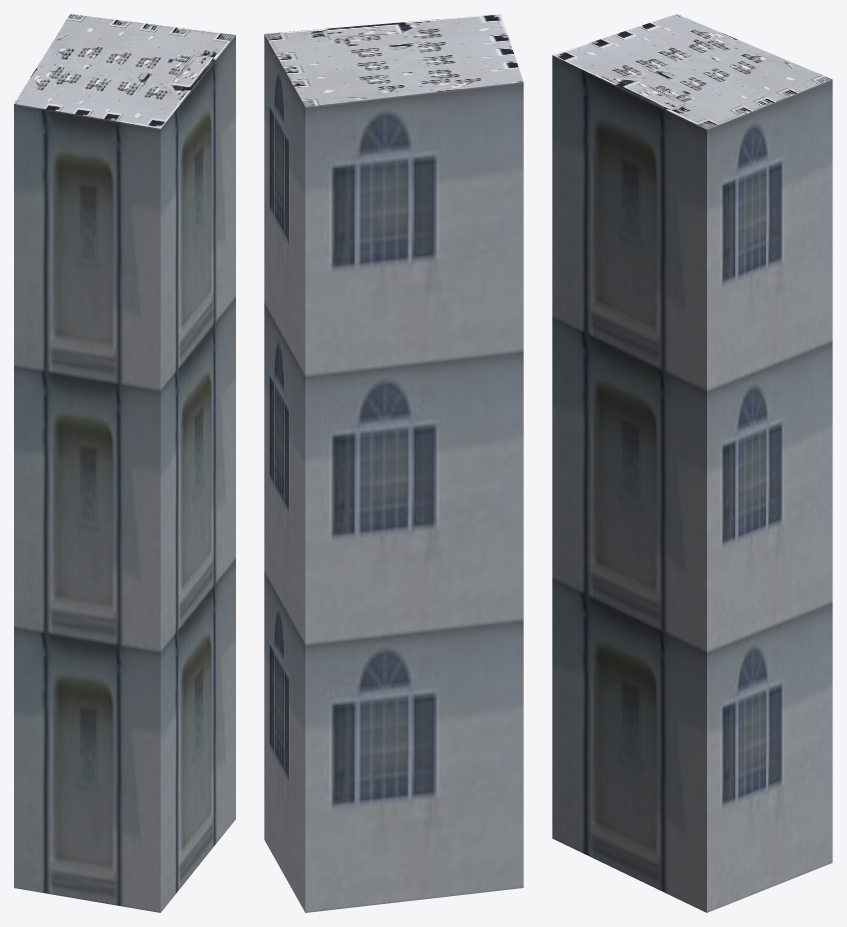
File: ResTex__2879.fbx
3 views of the same model, side by side, from view 1: azimuth 30°, elevation 25°; view 2: azimuth 150°, elevation 25°; view 3: azimuth 270°, elevation 25° (orthographic). The views are drawn at different scales.
Visible parts, largest first — view 1: CityEngineMaterial_17_m, CityEngineMaterial_m; view 2: CityEngineMaterial_17_m, CityEngineMaterial_m; view 3: CityEngineMaterial_17_m, CityEngineMaterial_m.
Boxes of the visible parts, x1,y1,x2,y2 form: CityEngineMaterial_17_m: (14,35,235,912); CityEngineMaterial_m: (14,14,235,128); CityEngineMaterial_17_m: (264,34,523,912); CityEngineMaterial_m: (264,14,523,106); CityEngineMaterial_17_m: (552,55,832,912); CityEngineMaterial_m: (552,14,831,129).
Size of the model in its own units: 2.85 by 9 by 2.92.
2 materials, 2 textured.
